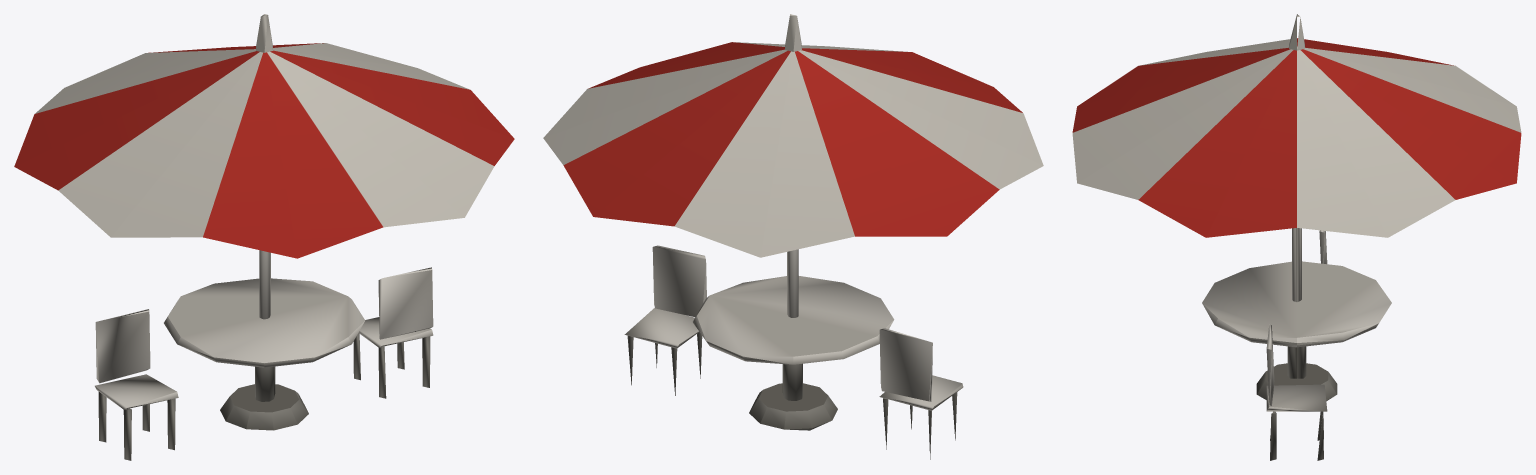
Rendered from cafe-umbrella-v1.lod2.glb.
The picture shows the model from 3 angles, left to right: view 1: azimuth 30°, elevation 25°; view 2: azimuth 150°, elevation 25°; view 3: azimuth 270°, elevation 25°; orthographic projection. The views are drawn at different scales.
Visible parts, largest first — view 1: cafe-umbrella-v1.lod2; view 2: cafe-umbrella-v1.lod2; view 3: cafe-umbrella-v1.lod2.
Part boxes in pixels (x1,y1,x2,y2): cafe-umbrella-v1.lod2: (14, 14, 514, 460); cafe-umbrella-v1.lod2: (543, 14, 1043, 459); cafe-umbrella-v1.lod2: (1072, 14, 1521, 460).
Size of the model in its own units: 3.4 by 3.15 by 3.4.
